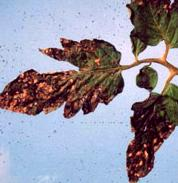Tomato Septoria leaf spot: (0, 25, 126, 128), (116, 78, 178, 183), (118, 0, 178, 57)
